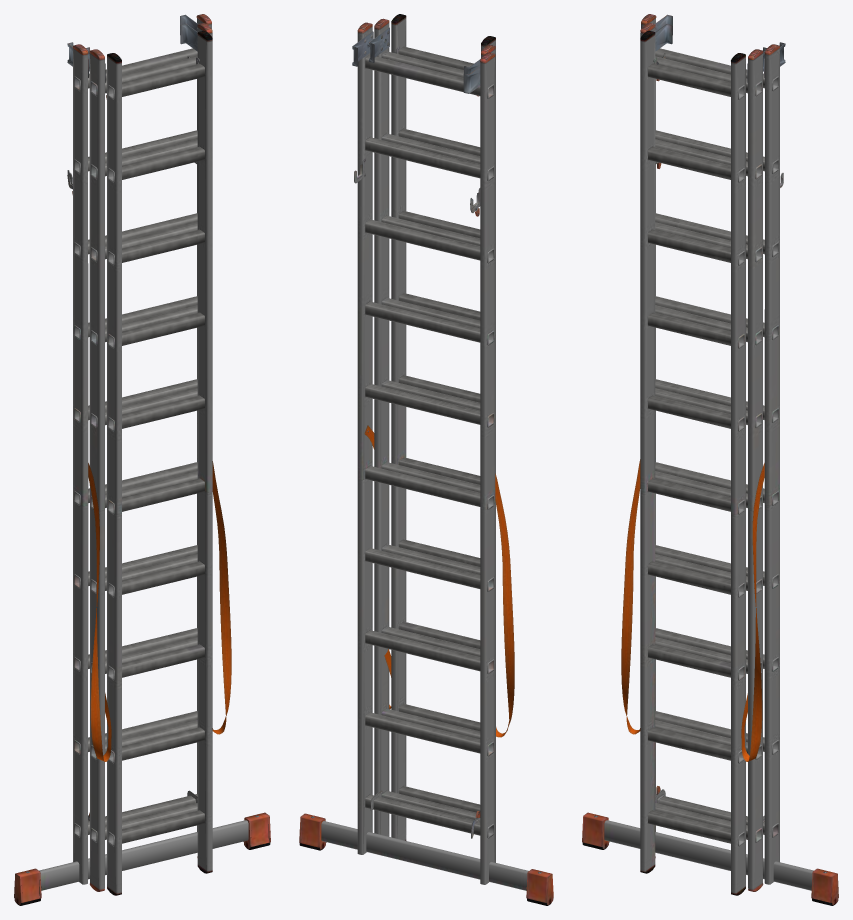
Rendered from ph_ladder_sectioned_01.glb.
The picture shows the model from 3 angles, left to right: view 1: azimuth 30°, elevation 25°; view 2: azimuth 150°, elevation 25°; view 3: azimuth 330°, elevation 25°; orthographic projection.
Parts seen in each view (by area): view 1: ladder_section_01; view 2: ladder_section_01; view 3: ladder_section_01.
Part boxes in pixels (x1,y1,x2,y2): ladder_section_01: (14,14,270,905); ladder_section_01: (299,14,553,905); ladder_section_01: (582,14,838,905).
Size of the model in its own units: 0.6615 by 2.13 by 0.1776.
1 material, 1 textured.
